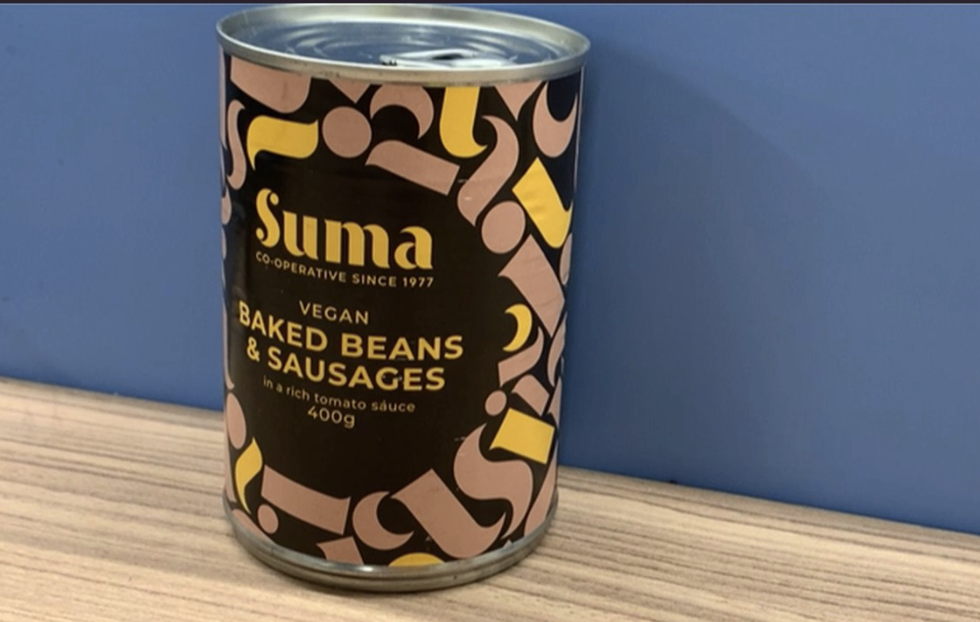Baked beans_400-499g: (225, 121, 522, 539)
